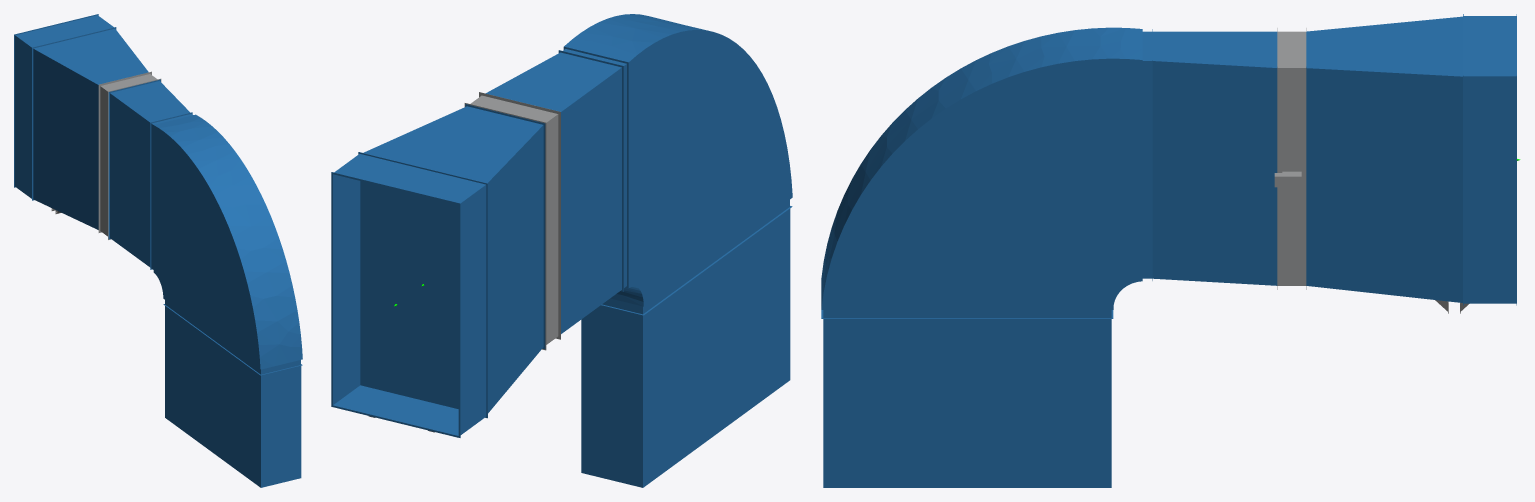
File: Phase24 (2).fbx
3 renders of one model, left to right at view 1: azimuth 30°, elevation 25°; view 2: azimuth 150°, elevation 25°; view 3: azimuth 270°, elevation 25°, orthographic. The views are drawn at different scales.
Parts seen in each view (by area): view 1: CPS_Отвод_Прямоугольный:Стандарт:561608, Воздуховод прямоугольного сечения:CPS_Оцинковка_Тройники_ГОС, CPS_Переходник_Прямоугольный 2:Стандартное:567399, CPS_Переходник_Прямоугольный:Стандартное:569662, Шумоглушитель:Шумоглушитель:570727, клапан взрывозащищенный квадрат:Сигмавент-120-НЗ(КОМ):537005; view 2: CPS_Переходник_Прямоугольный 2:Стандартное:567399, CPS_Отвод_Прямоугольный:Стандарт:561608, Воздуховод прямоугольного сечения:CPS_Оцинковка_Тройники_ГОС, Шумоглушитель:Шумоглушитель:570727, CPS_Переходник_Прямоугольный:Стандартное:569662, клапан взрывозащищенный квадрат:Сигмавент-120-НЗ(КОМ):537005; view 3: CPS_Отвод_Прямоугольный:Стандарт:561608, Воздуховод прямоугольного сечения:CPS_Оцинковка_Тройники_ГОС, CPS_Переходник_Прямоугольный 2:Стандартное:567399, CPS_Переходник_Прямоугольный:Стандартное:569662, Шумоглушитель:Шумоглушитель:570727, клапан взрывозащищенный квадрат:Сигмавент-120-НЗ(КОМ):537005.
Part boxes in pixels (bbox=[...]): CPS_Отвод_Прямоугольный:Стандарт:561608: bbox=[150, 112, 302, 375]; Воздуховод прямоугольного сечения:CPS_Оцинковка_Тройники_ГОС: bbox=[165, 306, 301, 487]; CPS_Переходник_Прямоугольный 2:Стандартное:567399: bbox=[32, 27, 148, 229]; CPS_Переходник_Прямоугольный:Стандартное:569662: bbox=[108, 79, 190, 267]; Шумоглушитель:Шумоглушитель:570727: bbox=[14, 14, 115, 198]; клапан взрывозащищенный квадрат:Сигмавент-120-НЗ(КОМ):537005: bbox=[98, 71, 161, 239]; CPS_Переходник_Прямоугольный 2:Стандартное:567399: bbox=[360, 104, 545, 417]; CPS_Отвод_Прямоугольный:Стандарт:561608: bbox=[563, 14, 792, 315]; Воздуховод прямоугольного сечения:CPS_Оцинковка_Тройники_ГОС: bbox=[581, 209, 790, 487]; Шумоглушитель:Шумоглушитель:570727: bbox=[331, 152, 487, 437]; CPS_Переходник_Прямоугольный:Стандартное:569662: bbox=[485, 50, 623, 333]; клапан взрывозащищенный квадрат:Сигмавент-120-НЗ(КОМ):537005: bbox=[464, 92, 560, 350]; CPS_Отвод_Прямоугольный:Стандарт:561608: bbox=[821, 27, 1152, 318]; Воздуховод прямоугольного сечения:CPS_Оцинковка_Тройники_ГОС: bbox=[823, 319, 1111, 487]; CPS_Переходник_Прямоугольный 2:Стандартное:567399: bbox=[1306, 14, 1463, 305]; CPS_Переходник_Прямоугольный:Стандартное:569662: bbox=[1152, 29, 1277, 285]; Шумоглушитель:Шумоглушитель:570727: bbox=[1463, 14, 1516, 305]; клапан взрывозащищенный квадрат:Сигмавент-120-НЗ(КОМ):537005: bbox=[1274, 28, 1306, 289].
Size of the model in its own units: 1520 by 7277 by 5007.
